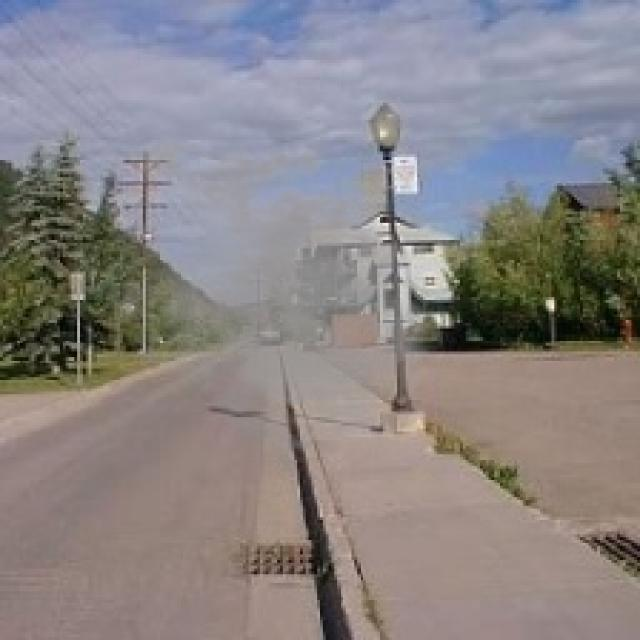smoke: (77, 129, 457, 474)
